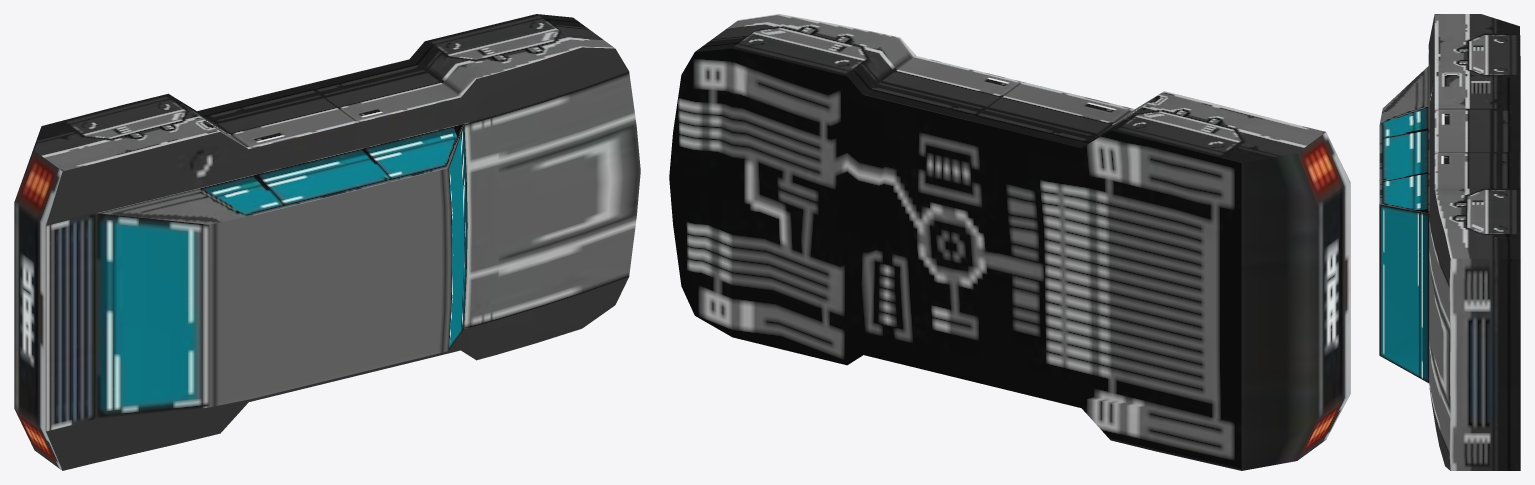
Rendered from sedan.glb.
The picture shows the model from 3 angles, left to right: view 1: azimuth 30°, elevation 25°; view 2: azimuth 150°, elevation 25°; view 3: azimuth 270°, elevation 25°; orthographic projection. The views are drawn at different scales.
Visible parts, largest first — view 1: sedan; view 2: sedan; view 3: sedan.
Part boxes in pixels (x1,y1,x2,y2): sedan: [14, 14, 640, 470]; sedan: [669, 14, 1350, 470]; sedan: [1379, 14, 1520, 470].
Bounding box in the file's own units: 61.29 × 29.09 × 14.9.
1 material, 1 textured.
